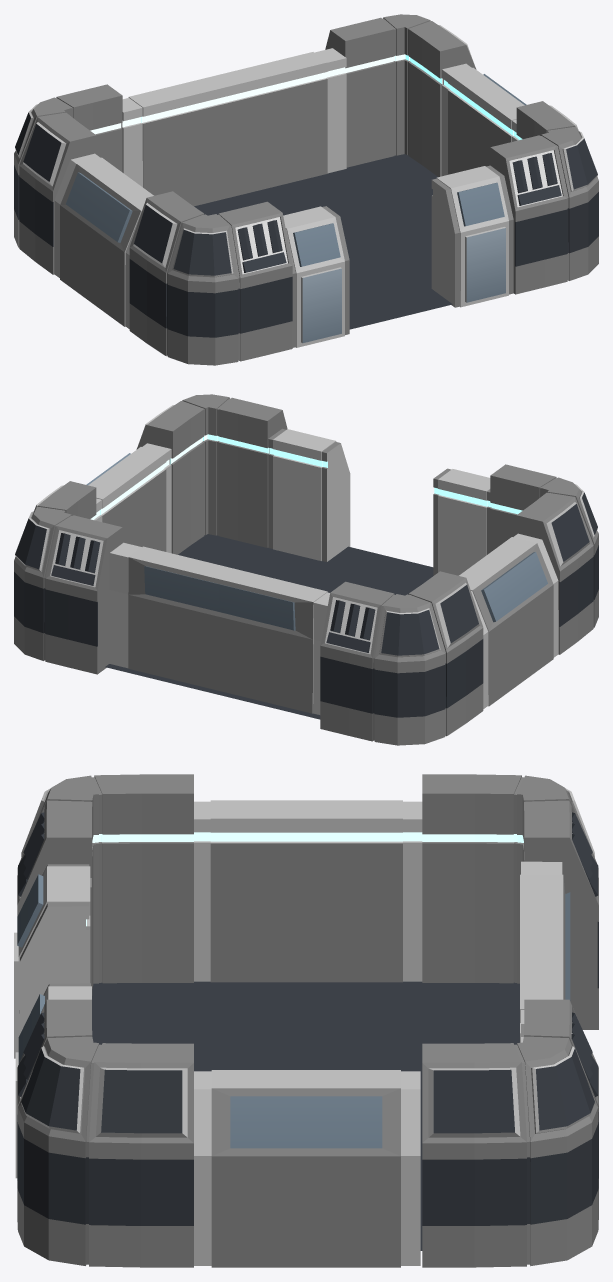
File: EnviMedium.fbx
The picture shows the model from 3 angles, top to bottom: view 1: azimuth 30°, elevation 25°; view 2: azimuth 150°, elevation 25°; view 3: azimuth 270°, elevation 25°; orthographic projection. The views are drawn at different scales.
Visible parts, largest first — view 1: Wall1.020, WallCorner1.015, Plane, WallCorner1.010, WallCorner1.020, WallSide.022, WallCorner1.004, Wall2.016, Wall2.015, WallSide.021; view 2: Wall1.020, WallCorner1.004, WallCorner1.010, WallCorner1.020, WallSide.022, WallCorner1.015, Wall2.016, Plane, WallSide.021, Wall2.015; view 3: WallSide.021, WallSide.022, WallCorner1.010, WallCorner1.020, Plane, WallCorner1.004, WallCorner1.015, Wall2.015, Wall1.020, Wall2.016.
Part boxes in pixels (x1,y1,x2,y2): Wall1.020: (121,48,346,206); WallCorner1.015: (129,191,292,365); Plane: (194,154,452,329); WallCorner1.010: (325,14,476,176); WallCorner1.020: (490,101,598,294); WallSide.022: (54,153,153,328); WallCorner1.004: (14,84,122,274); Wall2.016: (431,165,513,307); Wall2.015: (283,206,349,347); WallSide.021: (442,63,526,176); Wall1.020: (109,542,329,714); WallCorner1.004: (320,571,483,745); WallCorner1.010: (14,481,122,674); WallCorner1.020: (136,394,287,554); WallSide.022: (459,533,558,708); WallCorner1.015: (490,464,598,654); Wall2.016: (268,428,350,561); Plane: (105,534,433,719); WallSide.021: (86,443,171,553); Wall2.015: (433,468,491,575); WallSide.021: (194,1070,420,1267); WallSide.022: (194,800,422,982); WallCorner1.010: (422,999,598,1267); WallCorner1.020: (17,999,193,1267); Plane: (92,981,519,1250); WallCorner1.004: (422,774,598,1029); WallCorner1.015: (17,774,193,995); Wall2.015: (14,864,90,1058); Wall1.020: (520,861,570,1042); Wall2.016: (15,983,91,1178).
Size of the model in its own units: 10.79 by 3.1 by 8.52.
3 materials, 2 textured.
